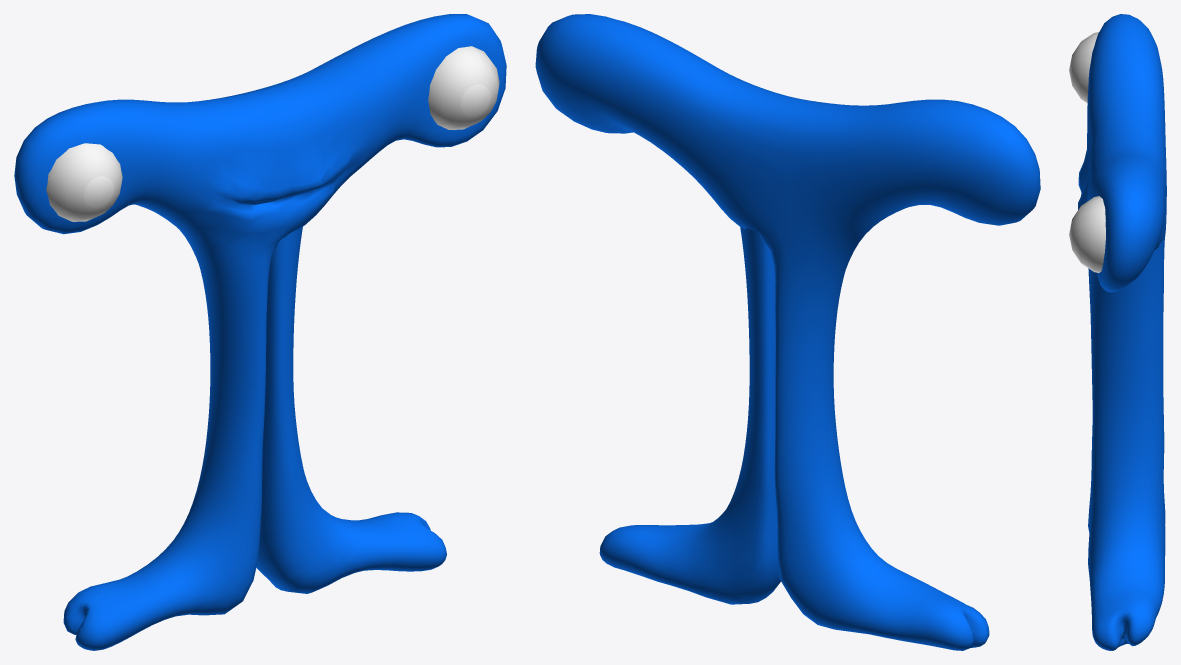
3 renders of one model, left to right at view 1: azimuth 30°, elevation 25°; view 2: azimuth 150°, elevation 25°; view 3: azimuth 270°, elevation 25°, orthographic. The views are drawn at different scales.
Parts seen in each view (by area): view 1: Box013, Sphere044, Sphere073; view 2: Box013; view 3: Box013, Sphere073, Sphere044.
Boxes of the visible parts, <box> form: Box013: <box>14,14,506,650</box>; Sphere044: <box>46,143,122,221</box>; Sphere073: <box>428,46,499,129</box>; Box013: <box>535,14,1040,650</box>; Box013: <box>1078,14,1166,650</box>; Sphere073: <box>1069,196,1105,272</box>; Sphere044: <box>1069,32,1098,103</box>.
Size of the model in its own units: 0.1542 by 0.1621 by 0.0299.
